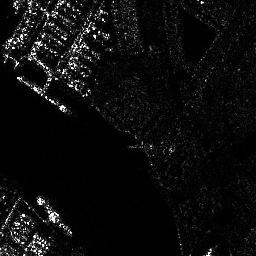ship: (36, 194, 72, 236)
